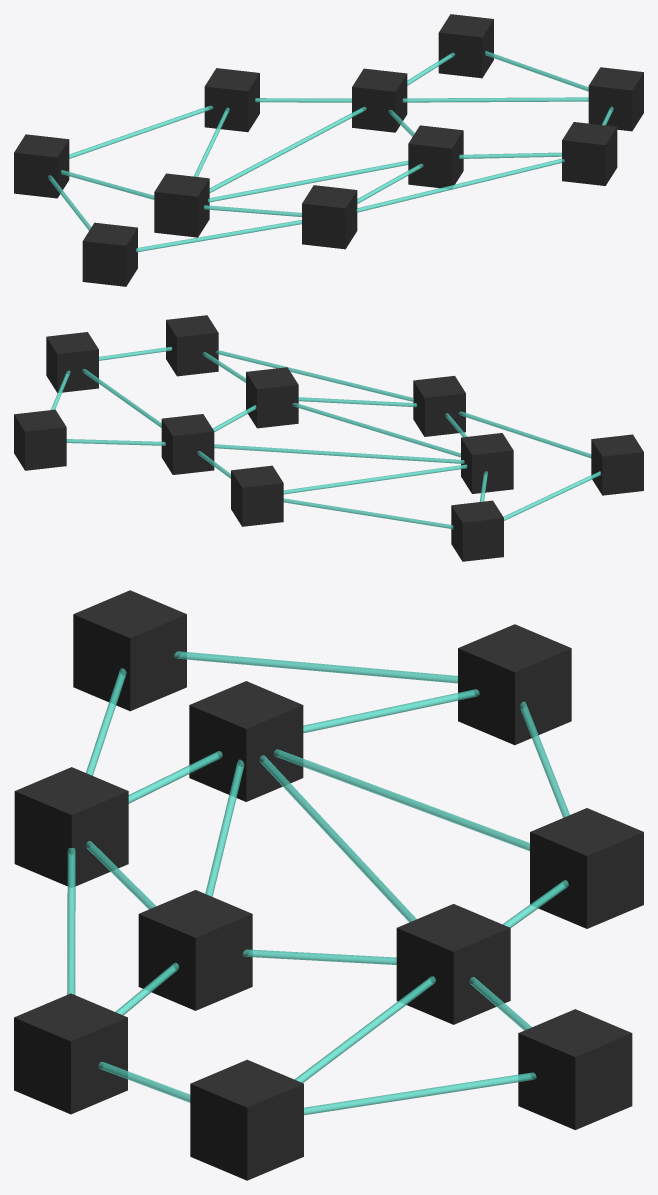
File: Blockchain-transformed.glb
3 renders of one model, top to bottom at view 1: azimuth 30°, elevation 25°; view 2: azimuth 150°, elevation 25°; view 3: azimuth 270°, elevation 25°, orthographic. The views are drawn at different scales.
Parts seen in each view (by area): view 1: MeshInstance3D10, MeshInstance3D11; view 2: MeshInstance3D10, MeshInstance3D11; view 3: MeshInstance3D10, MeshInstance3D11.
Boxes of the visible parts, box(x1,y1,x2,y2) form: MeshInstance3D10: box(14, 14, 643, 286); MeshInstance3D11: box(47, 51, 613, 252); MeshInstance3D10: box(14, 315, 643, 561); MeshInstance3D11: box(51, 346, 600, 529); MeshInstance3D10: box(14, 590, 643, 1180); MeshInstance3D11: box(67, 651, 569, 1115).
Bounding box in the file's own units: 15.21 × 1 × 7.82.
